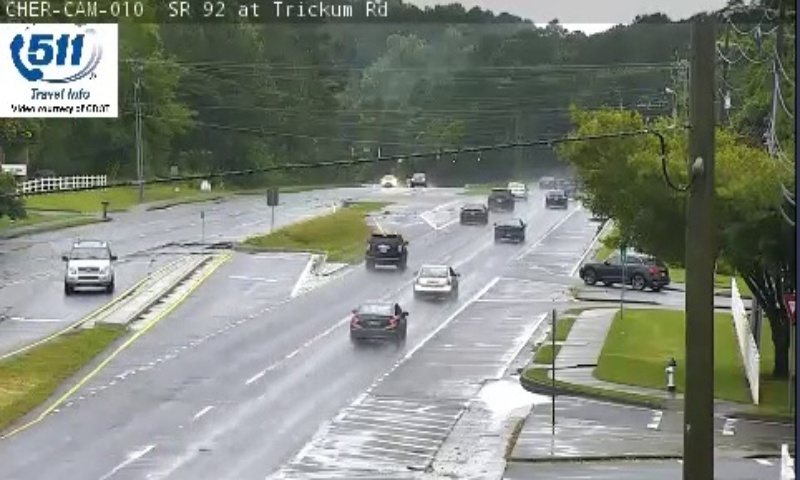car: (350, 302, 406, 342), (413, 265, 458, 297), (366, 233, 405, 266), (493, 217, 526, 242), (487, 186, 515, 212), (459, 202, 487, 225)
